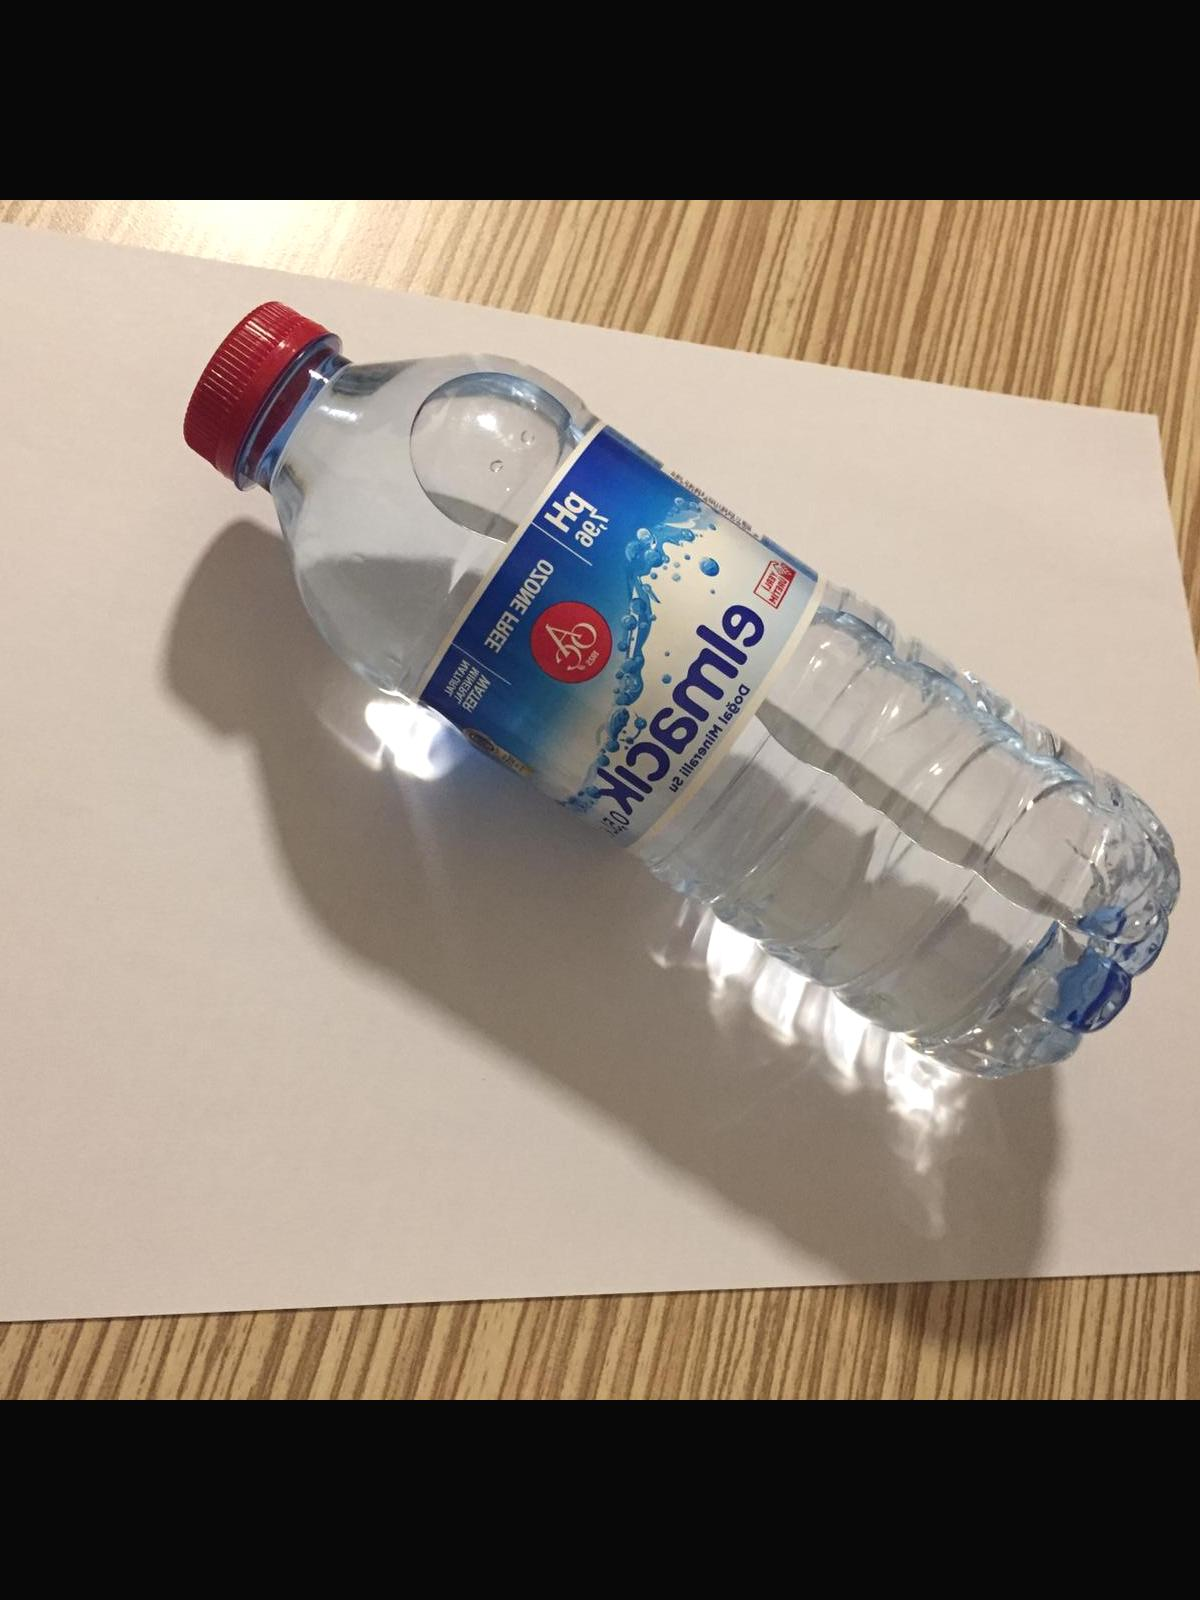bottle: (184, 297, 1190, 1069)
